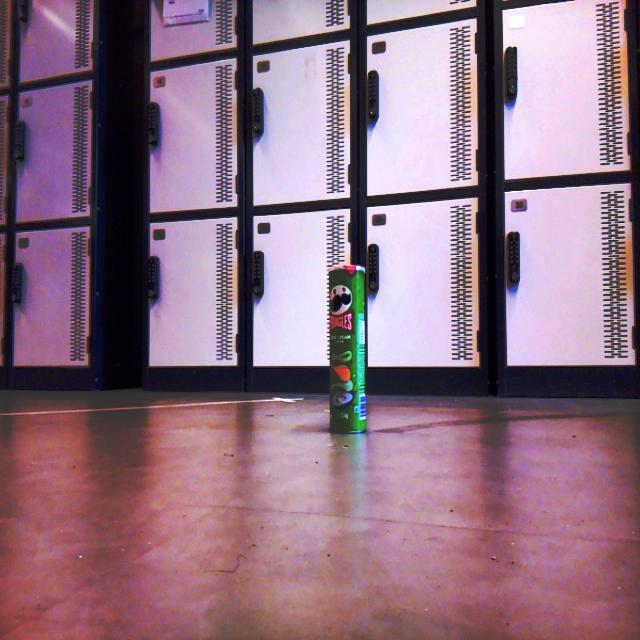greenpringles: (308, 250, 400, 458)
